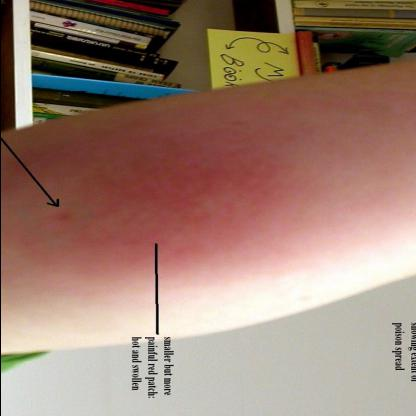Wasp: (50, 140, 262, 250)
